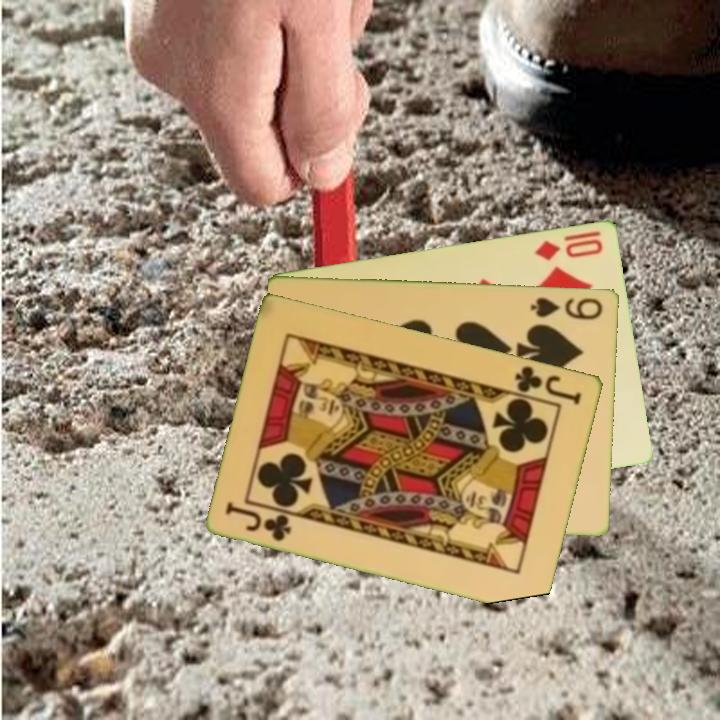10d: (531, 234, 606, 264)
9s: (527, 293, 605, 323)
Jc: (511, 362, 585, 408), (222, 498, 295, 544)
